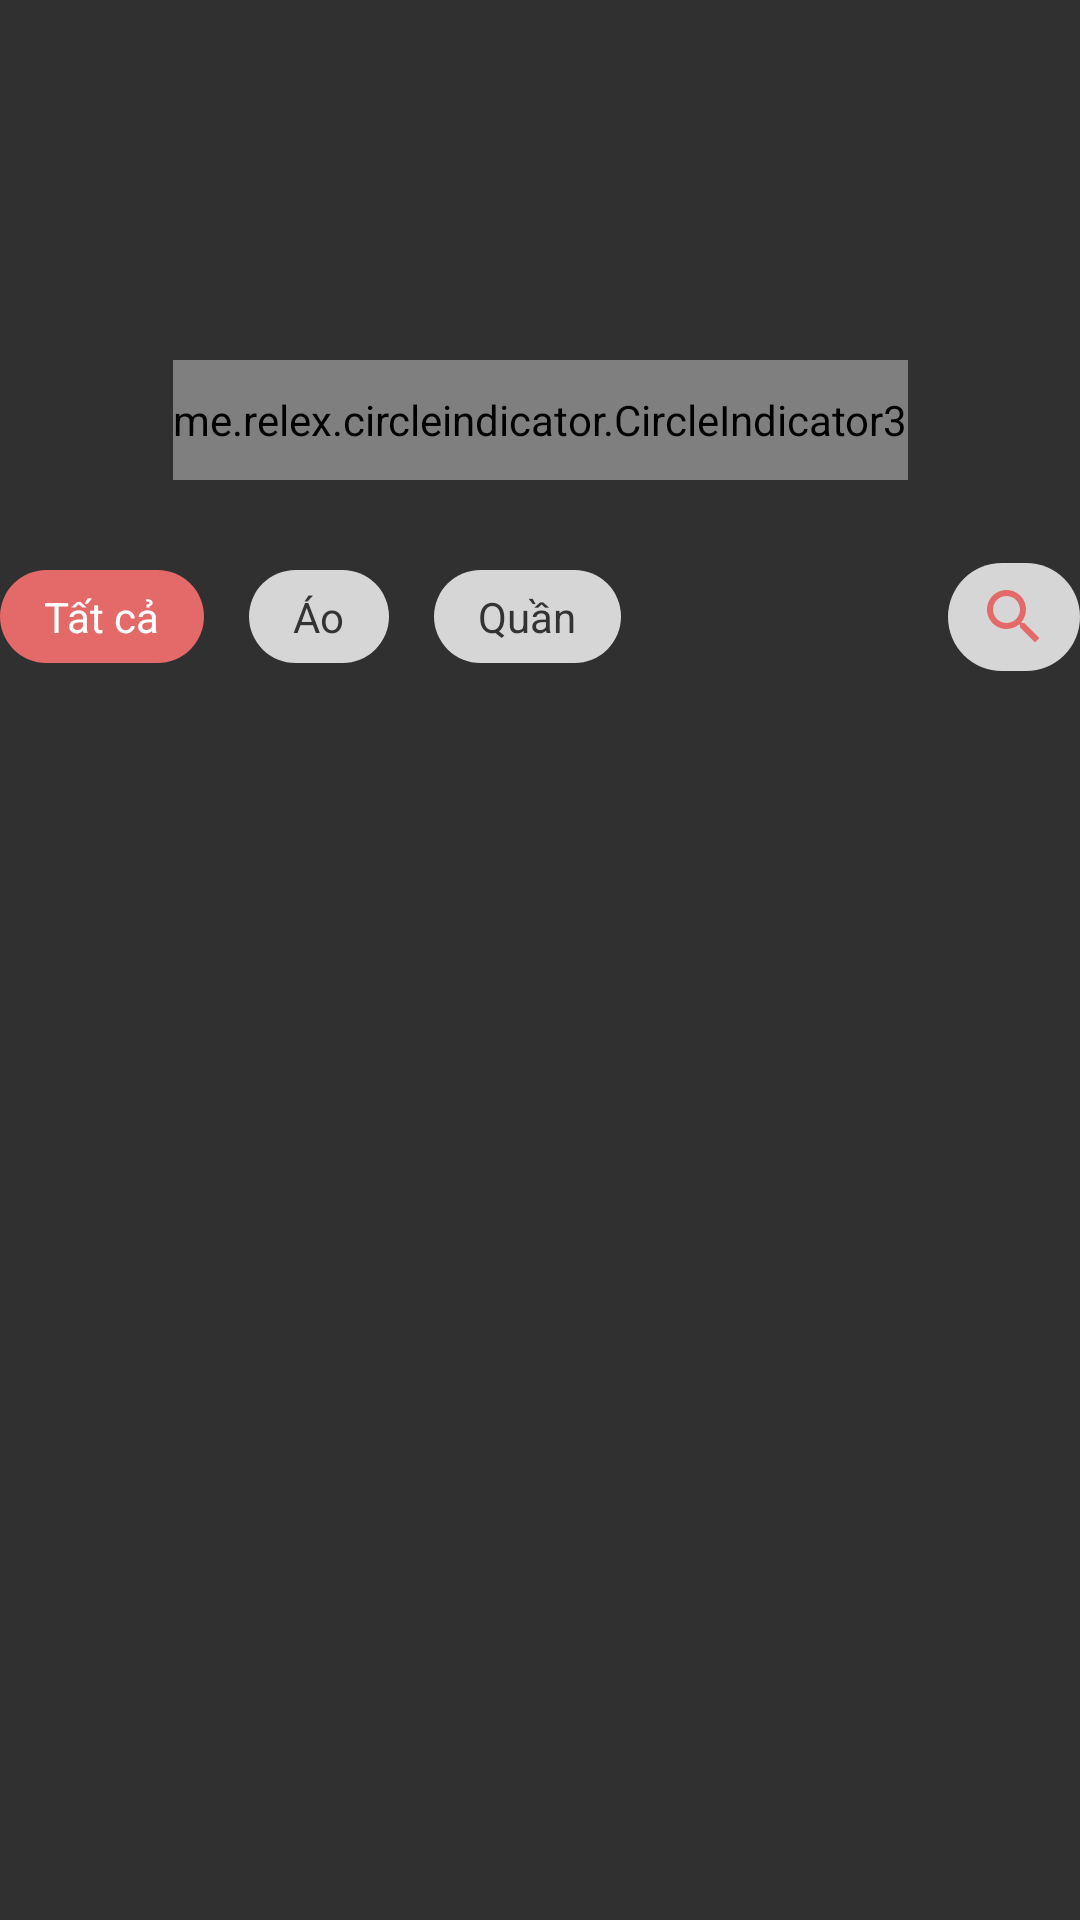

Named icons in this screenshot (1080px x 1920px) and their centers, (x=x, y=y):
search: (x=1014, y=617)
